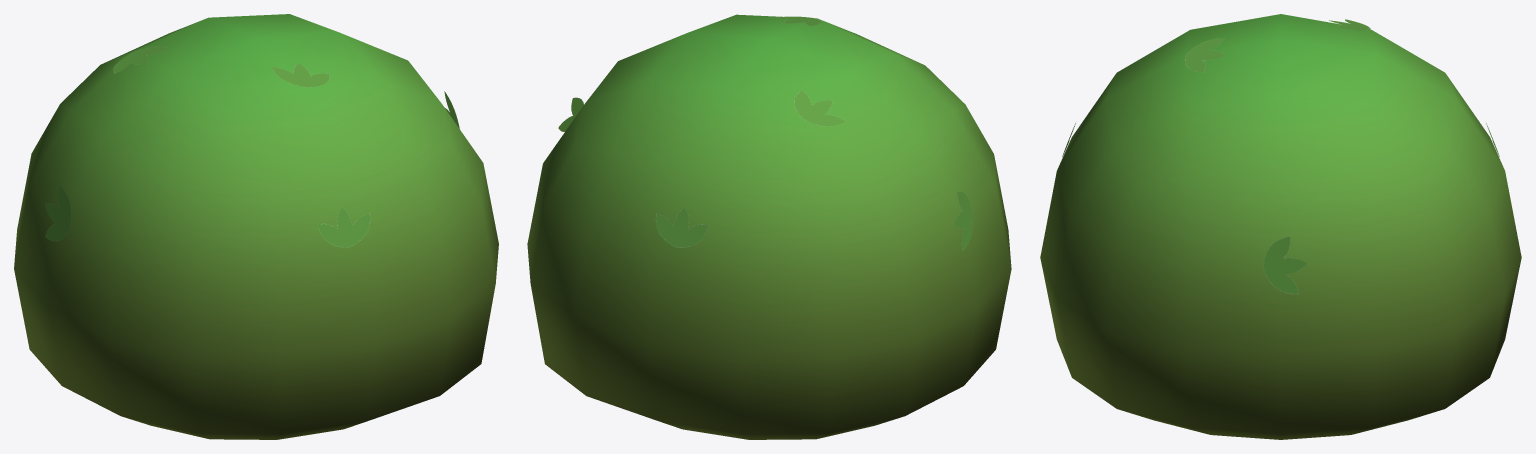
Rendered from Bush2.fbx.
3 renders of one model, left to right at view 1: azimuth 30°, elevation 25°; view 2: azimuth 150°, elevation 25°; view 3: azimuth 270°, elevation 25°, orthographic.
Visible parts, largest first — view 1: Bush2; view 2: Bush2; view 3: Bush2.
Part boxes in pixels (x1=…): Bush2: x1=14, y1=14, x2=498, y2=439; Bush2: x1=527, y1=14, x2=1011, y2=439; Bush2: x1=1040, y1=14, x2=1521, y2=439.
Bounding box in the file's own units: 168 × 126 × 168.
